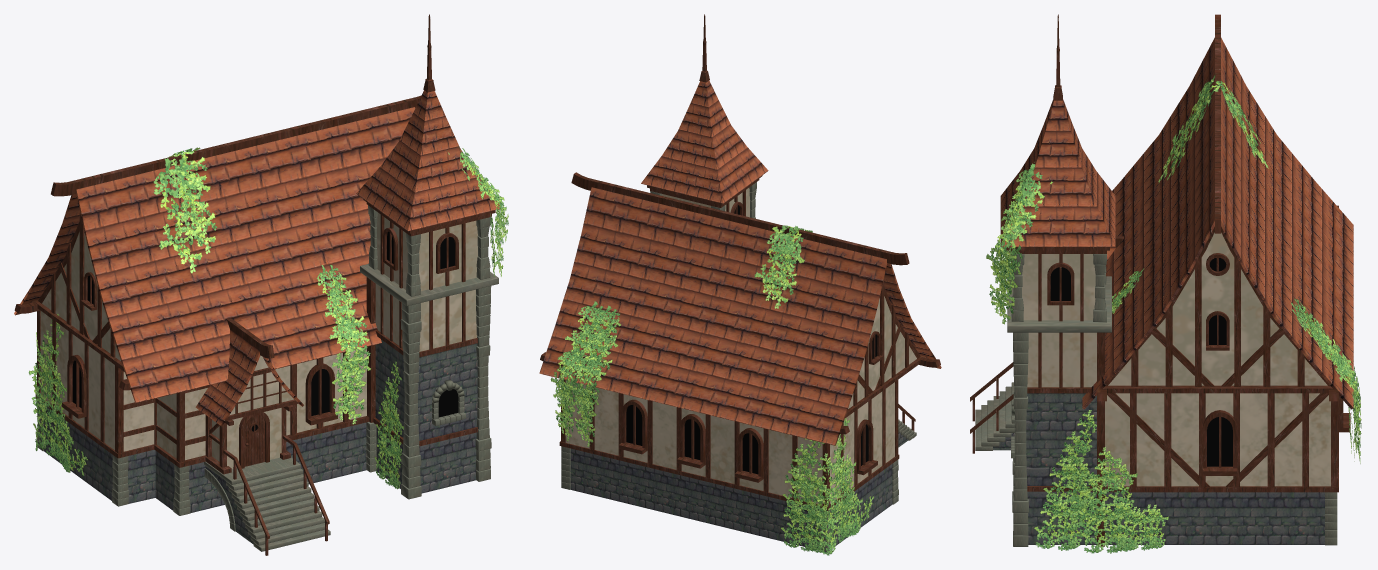
The picture shows the model from 3 angles, left to right: view 1: azimuth 30°, elevation 25°; view 2: azimuth 150°, elevation 25°; view 3: azimuth 270°, elevation 25°; orthographic projection. The views are drawn at different scales.
Parts seen in each view (by area): view 1: Roof, Wood, Walls, Stone, StoneBricks, Plants; view 2: Roof, Wood, Plants, Walls, StoneBricks, Stone; view 3: Roof, Walls, Wood, Plants, StoneBricks, Stone.
Boxes of the visible parts, x1=… form: Roof: x1=14, y1=14, x2=500, y2=426; Wood: x1=14, y1=95, x2=495, y2=555; Walls: x1=40, y1=212, x2=477, y2=469; Stone: x1=37, y1=205, x2=498, y2=551; StoneBricks: x1=43, y1=339, x2=477, y2=544; Plants: x1=28, y1=147, x2=508, y2=489; Roof: x1=539, y1=14, x2=941, y2=445; Wood: x1=540, y1=172, x2=940, y2=510; Plants: x1=550, y1=225, x2=874, y2=555; Walls: x1=565, y1=188, x2=916, y2=505; StoneBricks: x1=570, y1=431, x2=908, y2=547; Stone: x1=561, y1=182, x2=916, y2=552; Roof: x1=1000, y1=14, x2=1353, y2=409; Walls: x1=1022, y1=232, x2=1330, y2=486; Wood: x1=970, y1=14, x2=1350, y2=546; Plants: x1=986, y1=74, x2=1361, y2=553; StoneBricks: x1=993, y1=393, x2=1324, y2=544; Stone: x1=975, y1=254, x2=1337, y2=546.
Bounding box in the file's own units: 9.83 × 11.56 × 7.85.
7 materials, 6 textured.
